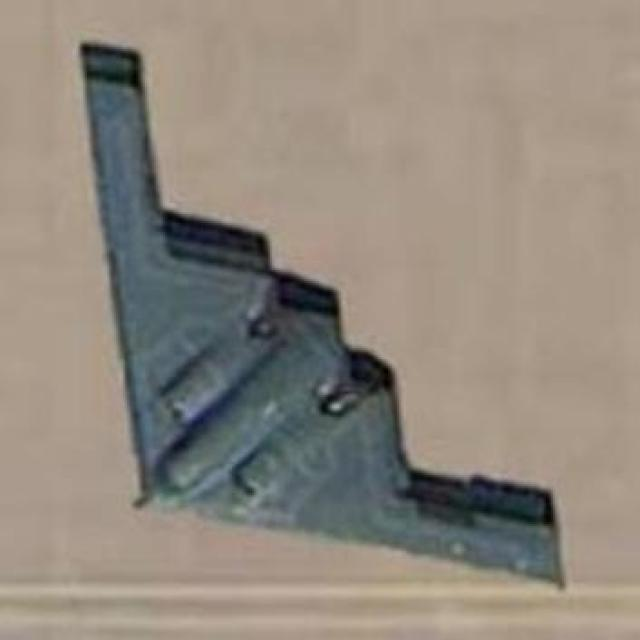B-2_TopDown: (71, 34, 569, 593)
